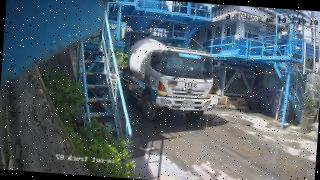cement_mixer_truck: (119, 37, 216, 120)
